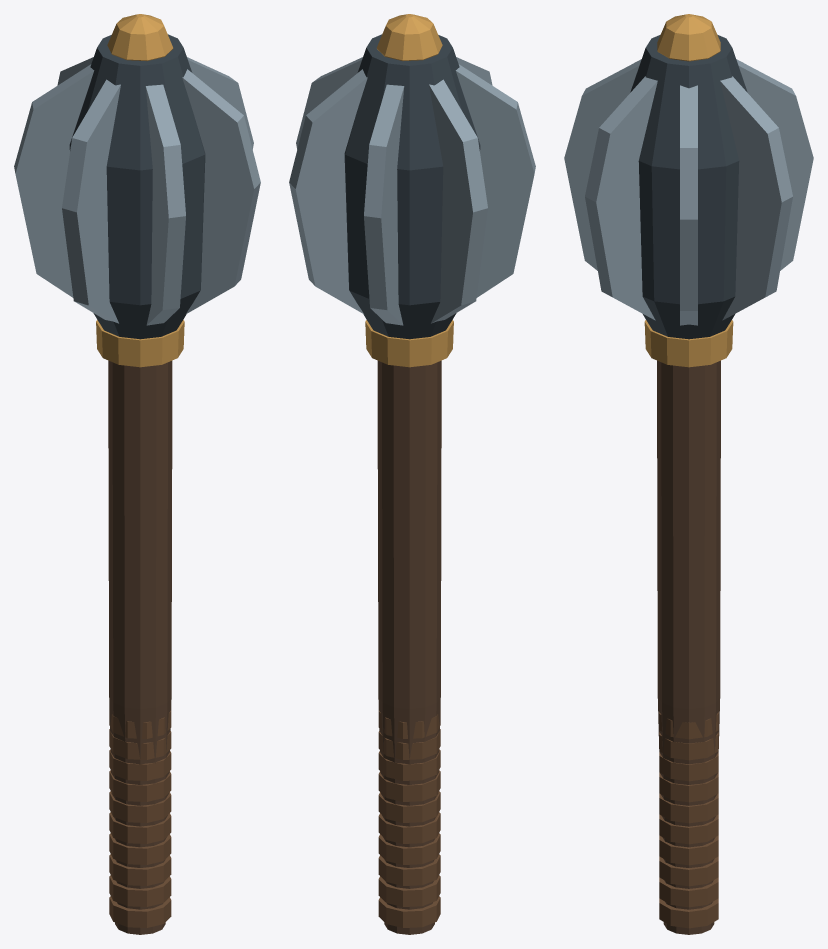
The model's file is mace.glb.
The picture shows the model from 3 angles, left to right: view 1: azimuth 30°, elevation 25°; view 2: azimuth 150°, elevation 25°; view 3: azimuth 270°, elevation 25°; orthographic projection.
Visible parts, largest first — view 1: Mace_mesh; view 2: Mace_mesh; view 3: Mace_mesh.
Part boxes in pixels (x1,y1,x2,y2): Mace_mesh: [14, 14, 260, 934]; Mace_mesh: [289, 14, 535, 934]; Mace_mesh: [564, 14, 813, 934].
Bounding box in the file's own units: 0.2415 × 0.995 × 0.2477.
